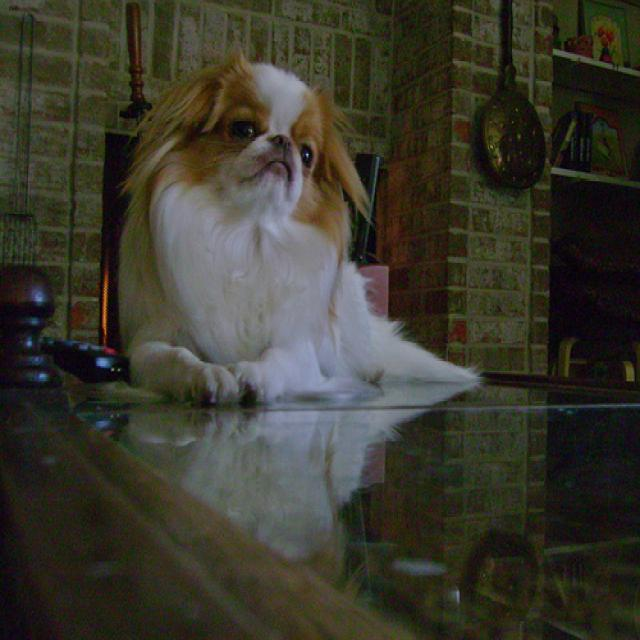dog: (164, 55, 339, 222)
